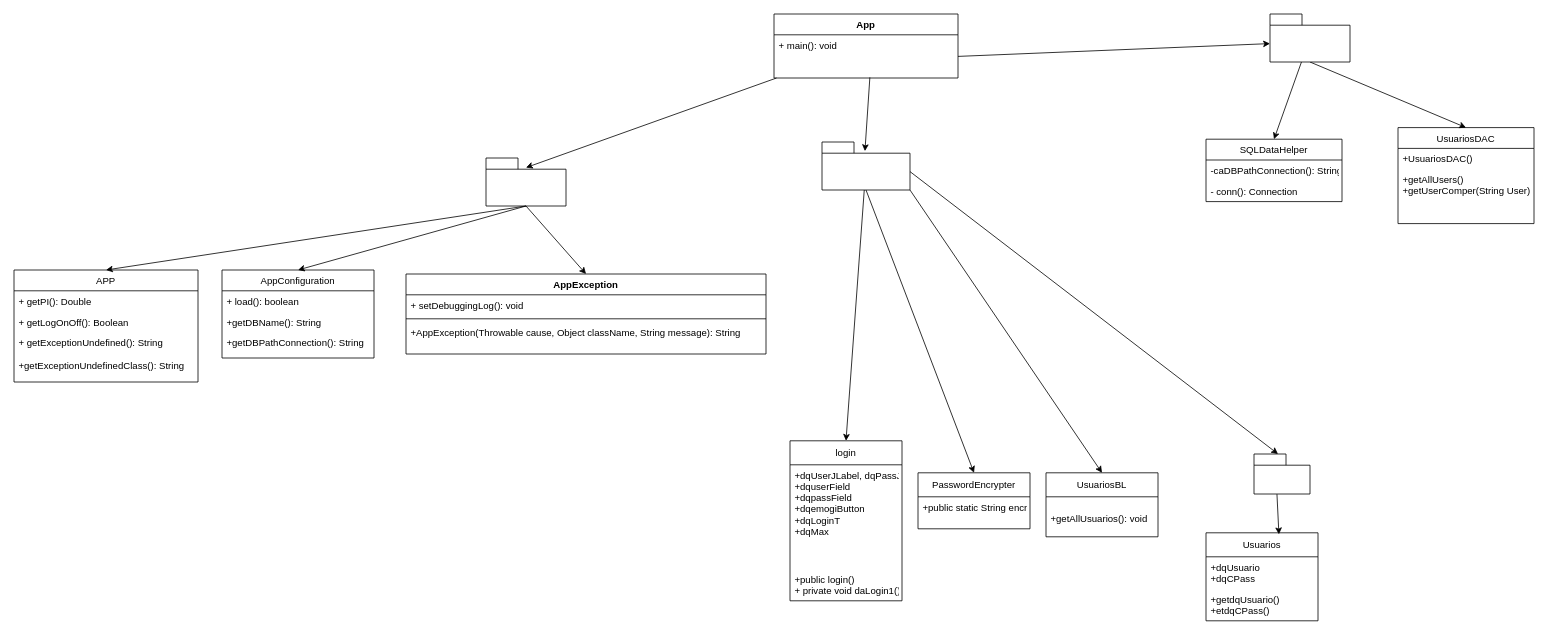
Some shapes in this 1548 by 637 pixel diagram are drawn without their labels. Here are the shapes that lost their labels. From the top down, the centre of each, then its label:
At point 1309,37: "DataAccess".
At point 525,181: "Framework".
At point 865,165: "BusinessLogic".
At point 1281,473: "Entities".
